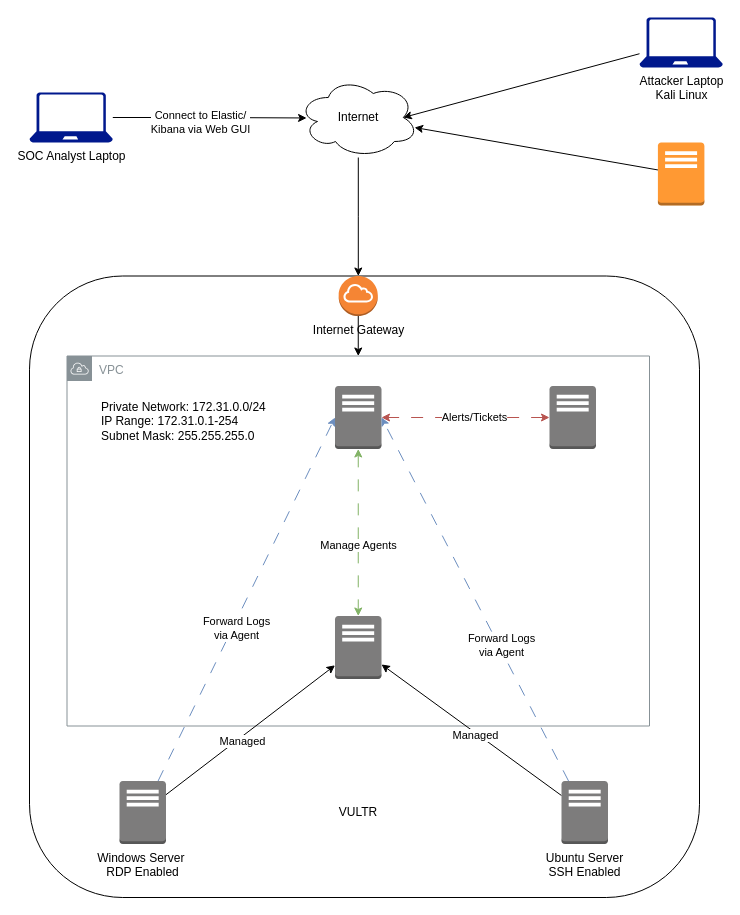
Image size: 740x915. Some labels were removed from this diagram. Each missing label, with the centre of its shape:
"C2 Server Mythic" belongs at pixel 680 174.
"Elastic & Kibana" belongs at pixel 358 417.
"Fleet Server" belongs at pixel 358 647.
"osTicket Server" belongs at pixel 572 417.
